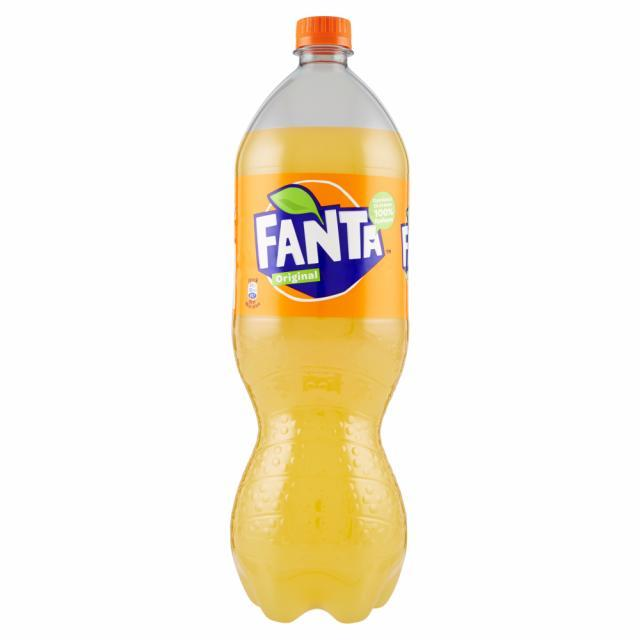Fanta: (229, 15, 410, 625)
